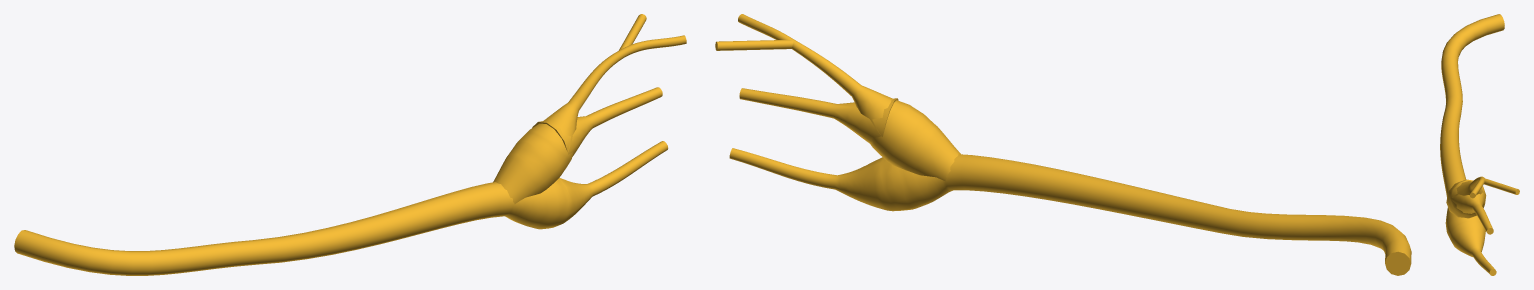
Rendered from nervoso-vestibular-nerve-l.glb.
3 views of the same model, side by side, from view 1: azimuth 30°, elevation 25°; view 2: azimuth 150°, elevation 25°; view 3: azimuth 270°, elevation 25° (orthographic). The views are drawn at different scales.
Visible parts, largest first — view 1: Vestibular nerve.l; view 2: Vestibular nerve.l; view 3: Vestibular nerve.l.
Part boxes in pixels (x1,y1,x2,y2): Vestibular nerve.l: [14, 14, 686, 275]; Vestibular nerve.l: [715, 14, 1411, 275]; Vestibular nerve.l: [1440, 14, 1519, 275].
Bounding box in the file's own units: 0.0212 × 0.00475 × 0.00328.
